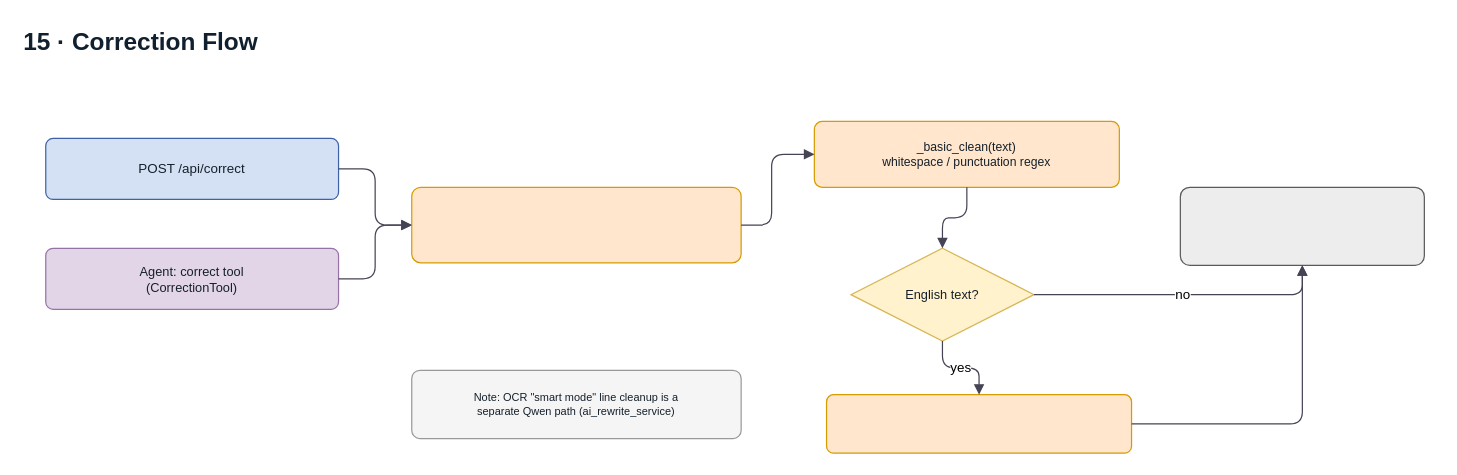
Image size: 1457x475. Some labels were removed from this diagram. Each missing label, with the centre of its shape:
"autocorrect.Speller (en)" goes at (x=978, y=423).
"correction_service.correct(text) classical · rule-based (no LLM)" goes at (x=576, y=224).
"result {corrected, changes, elapsed_ms}" goes at (x=1301, y=225).
